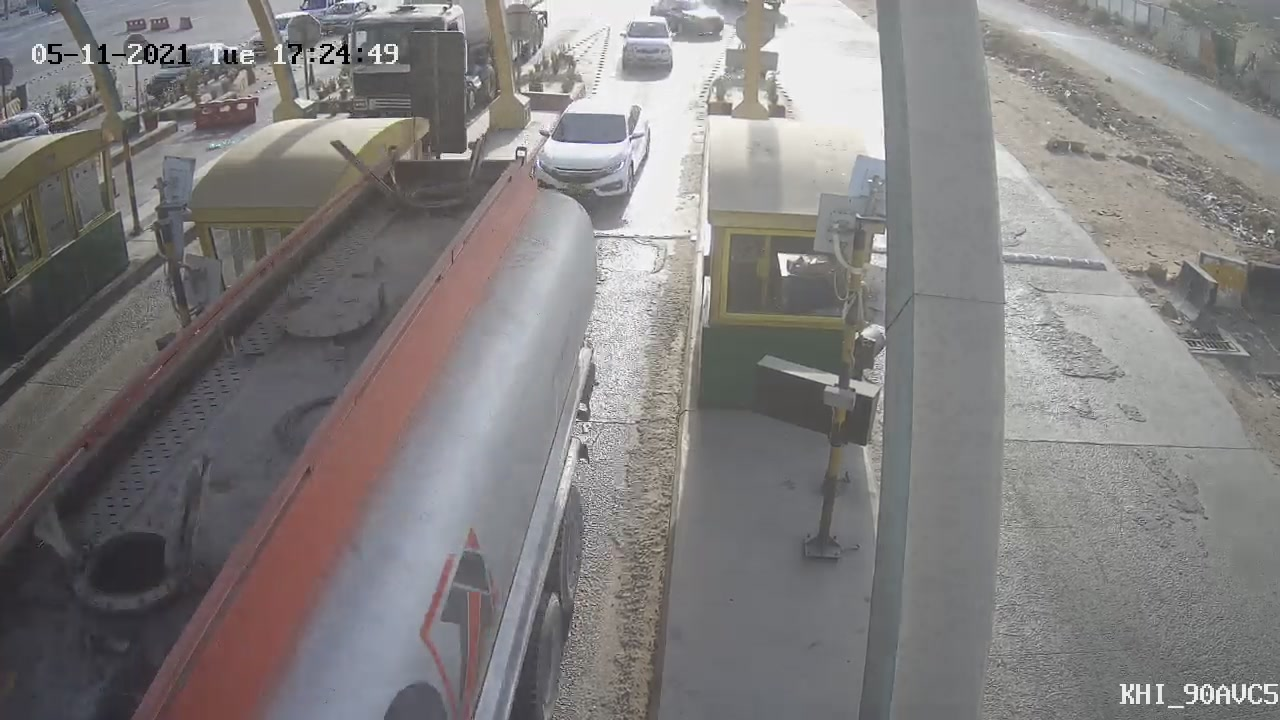F1: (505, 82, 670, 221)
